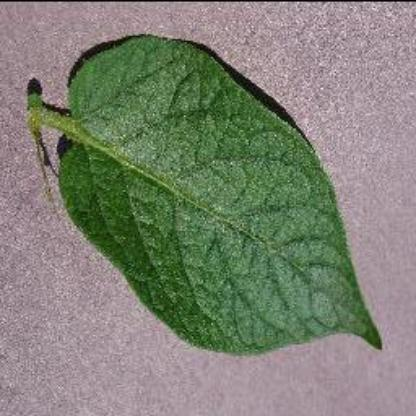Healthy-plant: (17, 32, 393, 368)
